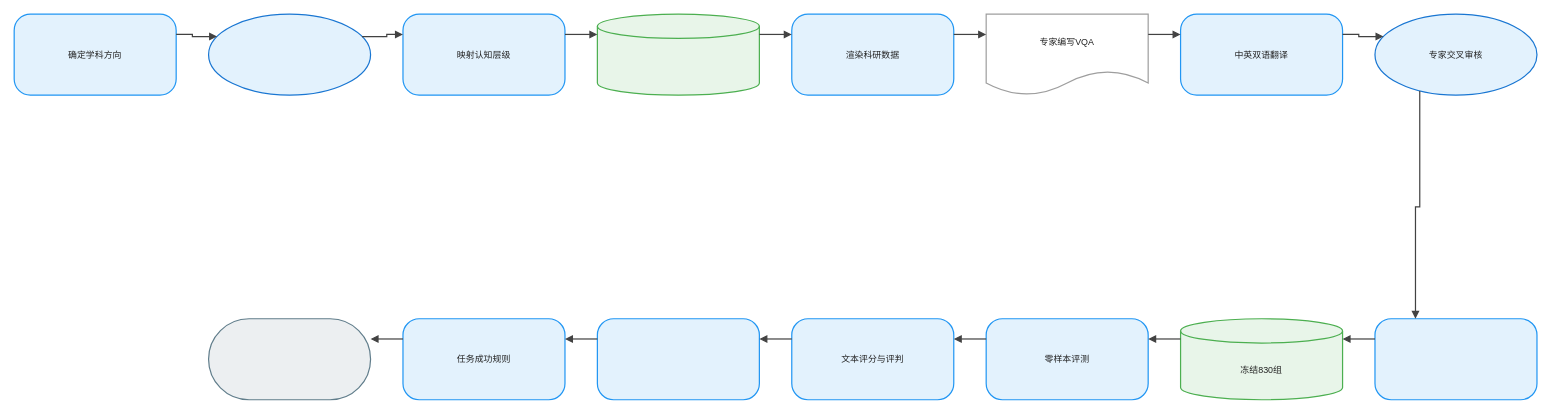
The diagram is 1552 pixels wide and 415 high, and some of its shapes have lost their labels. Each missing label, with the centre of its shape:
"分维度报告" goes at (x=289, y=359).
"执行与IoU" goes at (x=678, y=359).
"收集原生数据" goes at (x=678, y=54).
"规则格式校验" goes at (x=1455, y=359).
"邀请专家" goes at (x=289, y=54).
